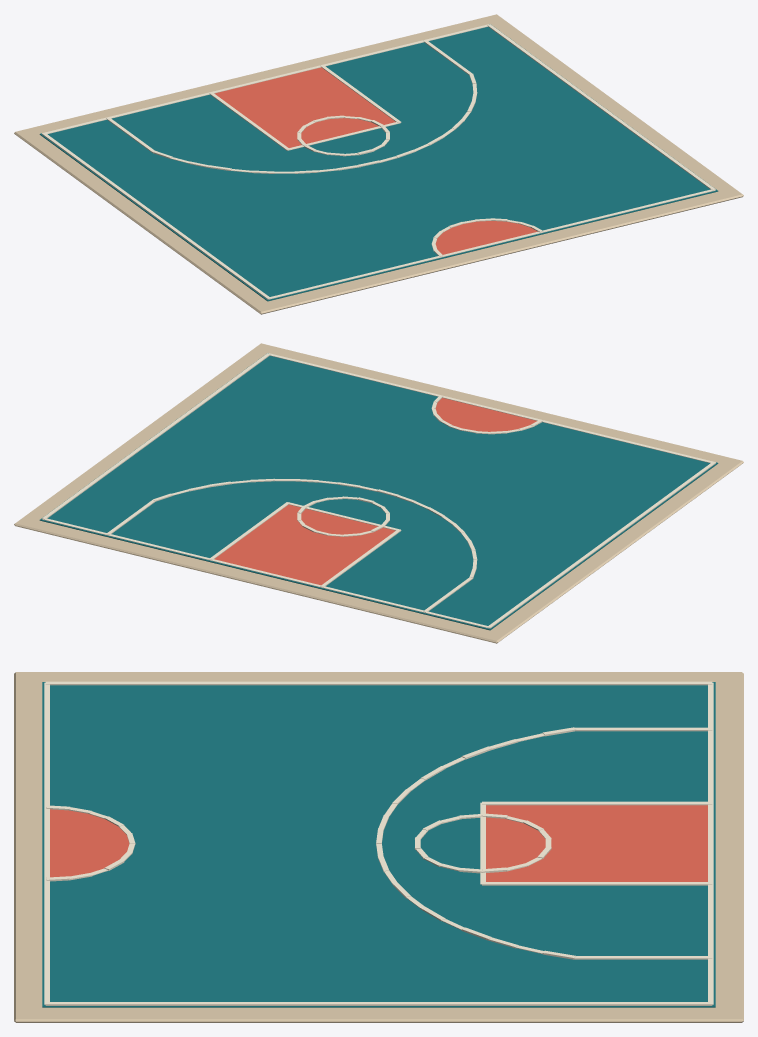
The model's file is basketball_court_half.glb.
3 renders of one model, top to bottom at view 1: azimuth 30°, elevation 25°; view 2: azimuth 150°, elevation 25°; view 3: azimuth 270°, elevation 25°, orthographic. The views are drawn at different scales.
Visible parts, largest first — view 1: basketball_court_half; view 2: basketball_court_half; view 3: basketball_court_half.
Part boxes in pixels (x1,y1,x2,y2): basketball_court_half: (14,14,743,314); basketball_court_half: (14,343,743,643); basketball_court_half: (14,672,743,1022).
Bounding box in the file's own units: 8.7 × 0.084 × 7.7.
